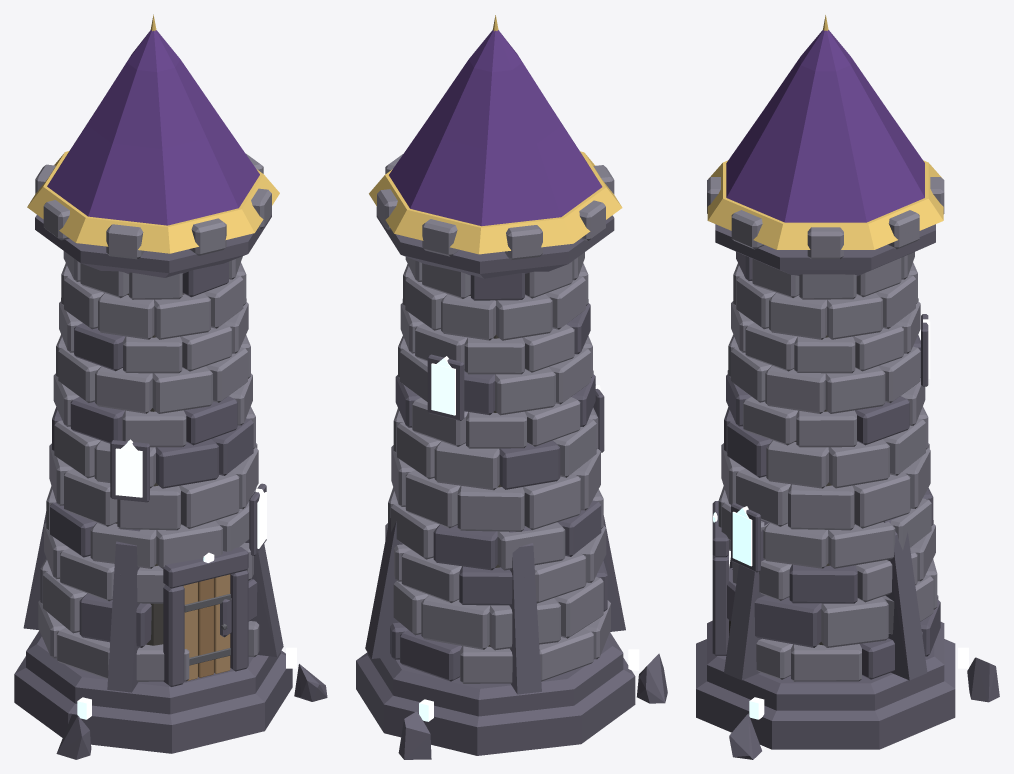
The model's file is mage_tower_3.glb.
3 views of the same model, side by side, from view 1: azimuth 30°, elevation 25°; view 2: azimuth 150°, elevation 25°; view 3: azimuth 270°, elevation 25° (orthographic).
Visible parts, largest first — view 1: MageTower; view 2: MageTower; view 3: MageTower.
Boxes of the visible parts, box(x1,y1,x2,y2) form: MageTower: box(14, 14, 327, 759); MageTower: box(356, 15, 667, 759); MageTower: box(696, 15, 999, 759).
Size of the model in its own units: 3.41 by 8.3 by 3.36.
